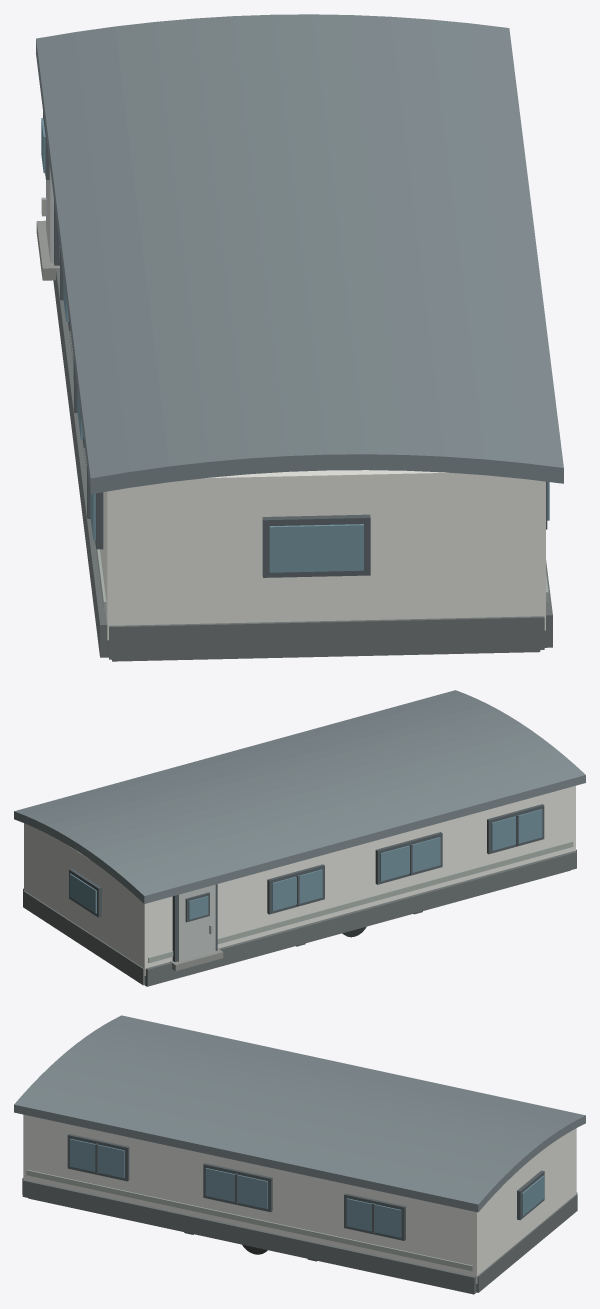
The picture shows the model from 3 angles, top to bottom: view 1: azimuth 30°, elevation 25°; view 2: azimuth 150°, elevation 25°; view 3: azimuth 270°, elevation 25°; orthographic projection. The views are drawn at different scales.
Parts seen in each view (by area): view 1: shallow_crowned_roof, main_caravan_body, lower_end_skirt_negative, rear_end_window_glass, lower_side_skirt_positive, rear_end_window_frame, underframe_main; view 2: shallow_crowned_roof, main_caravan_body, lower_side_skirt_positive, side_stripe_positive, lower_end_skirt_positive, entrance_door_panel, positive_side_window_2_glass, positive_side_window_1_glass, positive_side_window_3_glass, positive_side_window_2_frame, positive_side_window_1_frame, positive_side_window_3_frame (+6 smaller); view 3: shallow_crowned_roof, main_caravan_body, lower_side_skirt_negative, side_stripe_negative, lower_end_skirt_positive, negative_side_window_2_glass, negative_side_window_3_glass, negative_side_window_1_glass, negative_side_window_2_frame, negative_side_window_1_frame, negative_side_window_3_frame, front_end_window_glass (+2 smaller).
Part boxes in pixels (box(x1,y1,x2,y2)): shallow_crowned_roof: box(36, 14, 563, 494); main_caravan_body: box(100, 470, 545, 640); lower_end_skirt_negative: box(108, 616, 544, 659); rear_end_window_glass: box(269, 524, 363, 572); lower_side_skirt_positive: box(53, 269, 108, 657); rear_end_window_frame: box(262, 514, 370, 577); underframe_main: box(112, 650, 540, 661); shallow_crowned_roof: box(14, 690, 585, 903); main_caravan_body: box(24, 785, 575, 975); lower_side_skirt_positive: box(145, 851, 576, 986); side_stripe_positive: box(148, 841, 573, 963); lower_end_skirt_positive: box(23, 890, 145, 985); entrance_door_panel: box(178, 884, 215, 961); positive_side_window_2_glass: box(380, 837, 440, 881); positive_side_window_1_glass: box(491, 809, 542, 850); positive_side_window_3_glass: box(272, 869, 322, 910); positive_side_window_2_frame: box(375, 832, 442, 884); positive_side_window_1_frame: box(487, 804, 544, 854); positive_side_window_3_frame: box(267, 864, 324, 914); shallow_crowned_roof: box(14, 1015, 585, 1212); main_caravan_body: box(23, 1114, 576, 1283); lower_side_skirt_negative: box(22, 1179, 476, 1293); side_stripe_negative: box(26, 1169, 472, 1271); lower_end_skirt_positive: box(476, 1194, 577, 1292); negative_side_window_2_glass: box(205, 1168, 267, 1208); negative_side_window_3_glass: box(346, 1198, 401, 1237); negative_side_window_1_glass: box(70, 1138, 124, 1178); negative_side_window_2_frame: box(203, 1163, 272, 1212); negative_side_window_1_frame: box(67, 1134, 129, 1181); negative_side_window_3_frame: box(344, 1193, 405, 1240); front_end_window_glass: box(522, 1175, 544, 1216).
Size of the model in its own units: 8.73 by 2.5 by 11.15.
